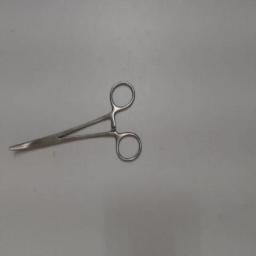Crile Artery Forceps: (4, 76, 144, 166)
